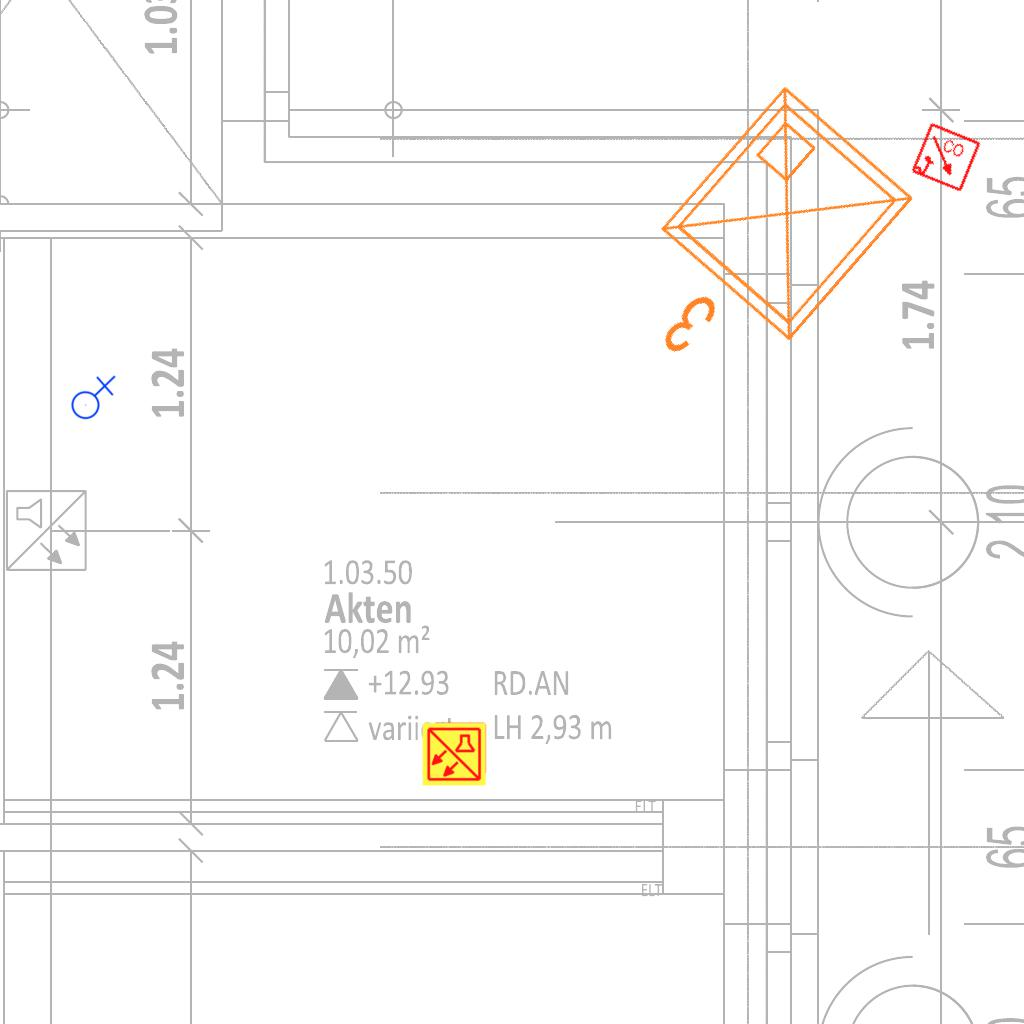Einbaudownlights_LED_Konferenzraeume: (586, 65, 940, 429)
Elektroanschluss_allgemein_230V_Geraeteanschlussdose_230V: (67, 373, 116, 420)
OKW_Multisensormelder_(Kombination_optischer_Rauch-Kahlenmonoxid_Waerme-Melder): (421, 721, 487, 787)
ROA_Rauchmelder_optisch_mit_Signalgeber_(Sockelsirene): (909, 121, 983, 195)
